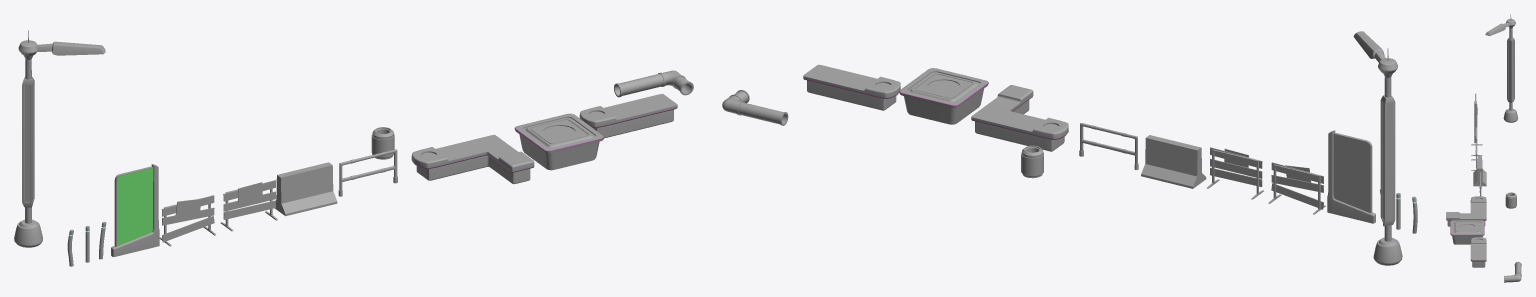
Rendered from Killian_Asset_2.fbx.
3 views of the same model, side by side, from view 1: azimuth 30°, elevation 25°; view 2: azimuth 150°, elevation 25°; view 3: azimuth 270°, elevation 25° (orthographic). The views are drawn at different scales.
Visible parts, largest first — view 1: Ecran_pub, Banc_01, lampadaire_solo, Socle_plante, Banc_02, Rambarde_beton, Barriere_02, Barriere_01, Tuyau_courbe, rambarde, Poubelle_petite; view 2: lampadaire_solo, Ecran_pub, Banc_01, Socle_plante, Banc_02, Rambarde_beton, Barriere_02, Barriere_01, Tuyau_courbe, Poubelle_petite, rambarde; view 3: lampadaire_solo, Socle_plante, Banc_01, Banc_02, Rambarde_beton, Tuyau_courbe, Poubelle_petite, Ecran_pub, Barriere_02, Barriere_01.
Part boxes in pixels (bbox=[...]): Ecran_pub: bbox=[111, 164, 159, 256]; Banc_01: bbox=[411, 134, 534, 184]; lampadaire_solo: bbox=[14, 30, 105, 247]; Socle_plante: bbox=[514, 113, 604, 170]; Banc_02: bbox=[579, 93, 677, 138]; Rambarde_beton: bbox=[275, 162, 337, 216]; Barriere_02: bbox=[220, 180, 277, 231]; Barriere_01: bbox=[159, 195, 215, 246]; Tuyau_courbe: bbox=[614, 70, 693, 97]; rambarde: bbox=[338, 149, 397, 196]; Poubelle_petite: bbox=[371, 127, 394, 159]; lampadaire_solo: bbox=[1353, 31, 1402, 265]; Ecran_pub: bbox=[1327, 130, 1375, 223]; Banc_01: bbox=[971, 85, 1068, 151]; Socle_plante: bbox=[899, 68, 988, 124]; Banc_02: bbox=[803, 64, 900, 110]; Rambarde_beton: bbox=[1141, 135, 1206, 188]; Barriere_02: bbox=[1206, 147, 1263, 199]; Barriere_01: bbox=[1268, 162, 1325, 214]; Tuyau_courbe: bbox=[722, 90, 788, 125]; Poubelle_petite: bbox=[1021, 145, 1043, 178]; rambarde: bbox=[1079, 123, 1138, 169]; lampadaire_solo: bbox=[1485, 14, 1518, 122]; Socle_plante: bbox=[1450, 220, 1484, 244]; Banc_01: bbox=[1446, 196, 1486, 226]; Banc_02: bbox=[1470, 237, 1486, 267]; Rambarde_beton: bbox=[1473, 156, 1486, 186]; Tuyau_courbe: bbox=[1504, 261, 1521, 282]; Poubelle_petite: bbox=[1505, 192, 1516, 208]; Ecran_pub: bbox=[1474, 93, 1477, 143]; Barriere_02: bbox=[1471, 142, 1482, 170]; Barriere_01: bbox=[1471, 127, 1482, 155].
Size of the model in its own units: 12.92 by 4.03 by 2.52.
